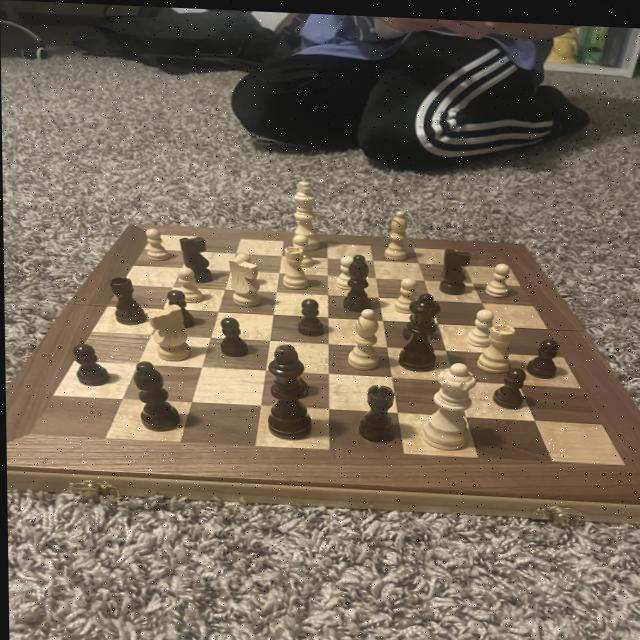bishop: (129, 356, 189, 435), (343, 249, 376, 310)
black-bishop: (261, 335, 317, 442)
black-king: (174, 233, 217, 282), (437, 245, 476, 297)
black-knight: (262, 346, 315, 398), (66, 339, 117, 392), (488, 360, 532, 408), (524, 331, 563, 380), (214, 314, 252, 360), (294, 293, 329, 338), (400, 296, 433, 341), (163, 286, 194, 326)
black-pawn: (390, 286, 445, 374)
black-queen: (353, 381, 402, 444), (107, 273, 147, 329)
black-rook: (344, 302, 389, 373), (380, 204, 410, 262)
white-bishop: (287, 174, 322, 252)
white-king: (145, 299, 193, 364), (226, 253, 266, 310)
white-knight: (172, 261, 205, 303), (142, 226, 173, 266), (391, 272, 421, 311), (465, 304, 494, 344), (483, 258, 512, 295), (234, 249, 266, 282), (290, 231, 313, 266), (333, 252, 356, 287)
white-pawn: (418, 355, 481, 452)
white-queen: (472, 315, 518, 372), (281, 241, 309, 288)
